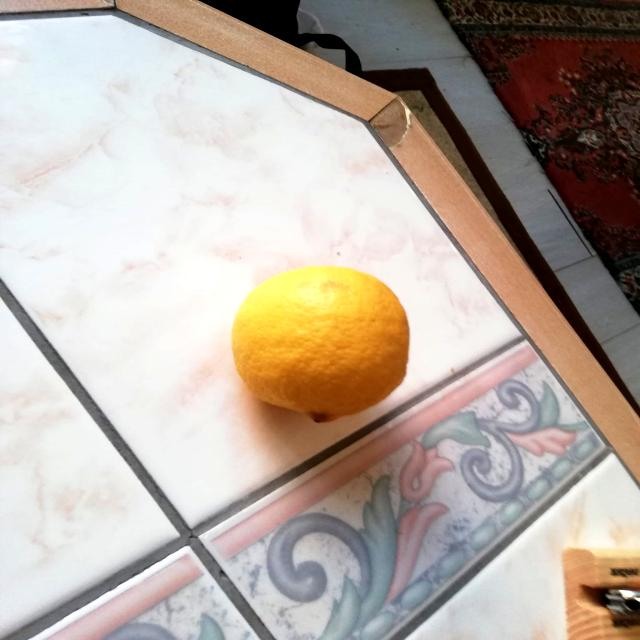lemon: (225, 262, 413, 429)
